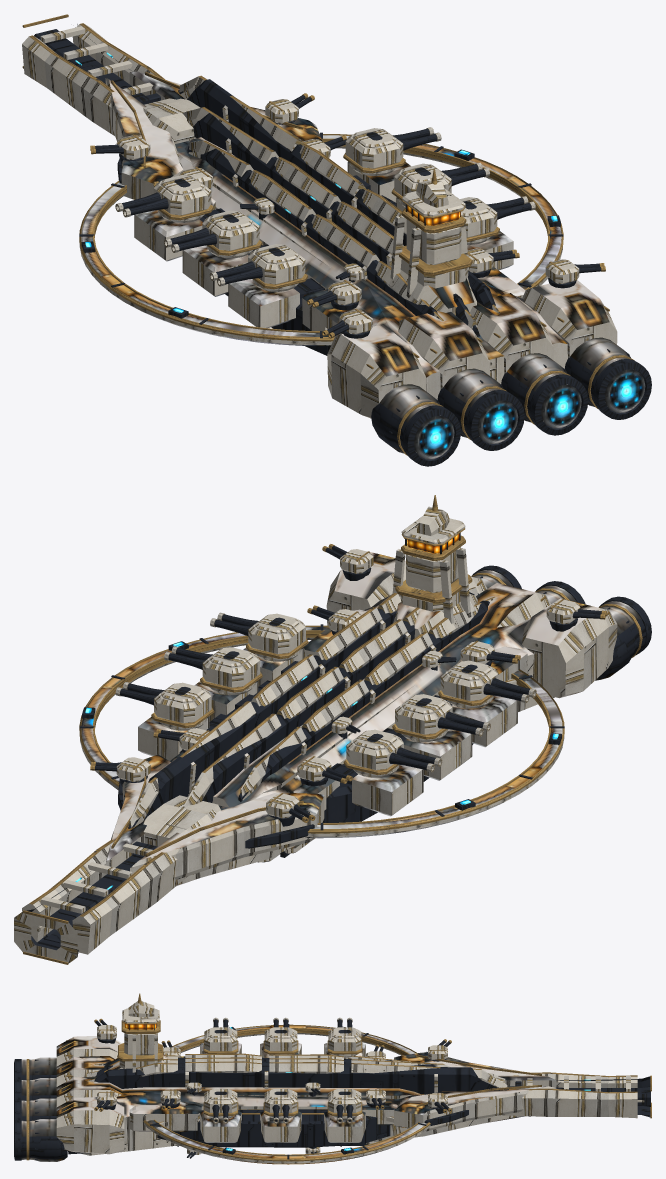
The model's file is authority-arbiter.glb.
3 renders of one model, top to bottom at view 1: azimuth 30°, elevation 25°; view 2: azimuth 150°, elevation 25°; view 3: azimuth 270°, elevation 25°, orthographic. The views are drawn at different scales.
Visible parts, largest first — view 1: hull / Authority ivory, navy and antique gold, interdiction-halo / Authority ivory, navy and antique gold, turret-starboard-1 / Authority ivory, navy and antique gold, turret-port-1 / Authority ivory, navy and antique gold, turret-port-3 / Authority ivory, navy and antique gold, turret-port-2 / Authority ivory, navy and antique gold, turret-starboard-3 / Authority ivory, navy and antique gold, turret-starboard-2 / Authority ivory, navy and antique gold, secondary-starboard-4 / Authority ivory, navy and antique go, secondary-port-1 / Authority ivory, navy and antique gold, secondary-port-3 / Authority ivory, navy and antique gold, secondary-port-4 / Authority ivory, navy and antique gold (+2 smaller); view 2: hull / Authority ivory, navy and antique gold, interdiction-halo / Authority ivory, navy and antique gold, turret-starboard-2 / Authority ivory, navy and antique gold, turret-starboard-1 / Authority ivory, navy and antique gold, turret-starboard-3 / Authority ivory, navy and antique gold, turret-port-3 / Authority ivory, navy and antique gold, turret-port-1 / Authority ivory, navy and antique gold, turret-port-2 / Authority ivory, navy and antique gold, secondary-starboard-1 / Authority ivory, navy and antique go, secondary-port-4 / Authority ivory, navy and antique gold, secondary-port-2 / Authority ivory, navy and antique gold, secondary-starboard-4 / Authority ivory, navy and antique go (+3 smaller); view 3: hull / Authority ivory, navy and antique gold, interdiction-halo / Authority ivory, navy and antique gold, turret-port-2 / Authority ivory, navy and antique gold, turret-port-1 / Authority ivory, navy and antique gold, turret-port-3 / Authority ivory, navy and antique gold, turret-starboard-2 / Authority ivory, navy and antique gold, turret-starboard-1 / Authority ivory, navy and antique gold, turret-starboard-3 / Authority ivory, navy and antique gold, hull / Ventral hangar and keel plating, secondary-port-4 / Authority ivory, navy and antique gold, secondary-starboard-1 / Authority ivory, navy and antique go, secondary-starboard-3 / Authority ivory, navy and antique go (+4 smaller).
Part boxes in pixels (box(x1,y1,x2,y2)): hull / Authority ivory, navy and antique gold: box(22, 14, 651, 466); interdiction-halo / Authority ivory, navy and antique gold: box(79, 132, 563, 344); turret-starboard-1 / Authority ivory, navy and antique gold: box(343, 127, 441, 173); turret-port-1 / Authority ivory, navy and antique gold: box(115, 175, 213, 220); turret-port-3 / Authority ivory, navy and antique gold: box(209, 244, 307, 289); turret-port-2 / Authority ivory, navy and antique gold: box(164, 210, 262, 255); turret-starboard-3 / Authority ivory, navy and antique gold: box(460, 196, 535, 242); turret-starboard-2 / Authority ivory, navy and antique gold: box(391, 162, 489, 200); secondary-starboard-4 / Authority ivory, navy and antique go: box(545, 259, 605, 283); secondary-port-1 / Authority ivory, navy and antique gold: box(90, 134, 150, 159); secondary-port-3 / Authority ivory, navy and antique gold: box(307, 280, 361, 307); secondary-port-4 / Authority ivory, navy and antique gold: box(321, 309, 372, 338); hull / Authority ivory, navy and antique gold: box(14, 495, 651, 964); interdiction-halo / Authority ivory, navy and antique gold: box(79, 624, 564, 836); turret-starboard-2 / Authority ivory, navy and antique gold: box(164, 646, 262, 692); turret-starboard-1 / Authority ivory, navy and antique gold: box(115, 682, 214, 728); turret-starboard-3 / Authority ivory, navy and antique gold: box(210, 612, 308, 658); turret-port-3 / Authority ivory, navy and antique gold: box(438, 660, 536, 705); turret-port-1 / Authority ivory, navy and antique gold: box(343, 729, 442, 775); turret-port-2 / Authority ivory, navy and antique gold: box(392, 694, 490, 739); secondary-starboard-1 / Authority ivory, navy and antique go: box(90, 757, 150, 781); secondary-port-4 / Authority ivory, navy and antique gold: box(546, 599, 606, 624); secondary-port-2 / Authority ivory, navy and antique gold: box(297, 756, 352, 783); secondary-starboard-4 / Authority ivory, navy and antique go: box(322, 544, 373, 573); hull / Authority ivory, navy and antique gold: box(14, 993, 651, 1160); interdiction-halo / Authority ivory, navy and antique gold: box(143, 1024, 430, 1163); turret-port-2 / Authority ivory, navy and antique gold: box(263, 1017, 298, 1054); turret-port-1 / Authority ivory, navy and antique gold: box(327, 1017, 362, 1054); turret-port-3 / Authority ivory, navy and antique gold: box(203, 1017, 238, 1053); turret-starboard-2 / Authority ivory, navy and antique gold: box(263, 1089, 298, 1123); turret-starboard-1 / Authority ivory, navy and antique gold: box(327, 1089, 362, 1123); turret-starboard-3 / Authority ivory, navy and antique gold: box(203, 1089, 238, 1123); hull / Ventral hangar and keel plating: box(21, 1116, 524, 1161); secondary-port-4 / Authority ivory, navy and antique gold: box(94, 1018, 116, 1039); secondary-starboard-1 / Authority ivory, navy and antique go: box(428, 1093, 451, 1113); secondary-starboard-3 / Authority ivory, navy and antique go: box(160, 1089, 180, 1110).
Bounding box in the file's own units: 13.72 × 6.91 × 27.44.
Materials: 2 (2 with a texture image).
